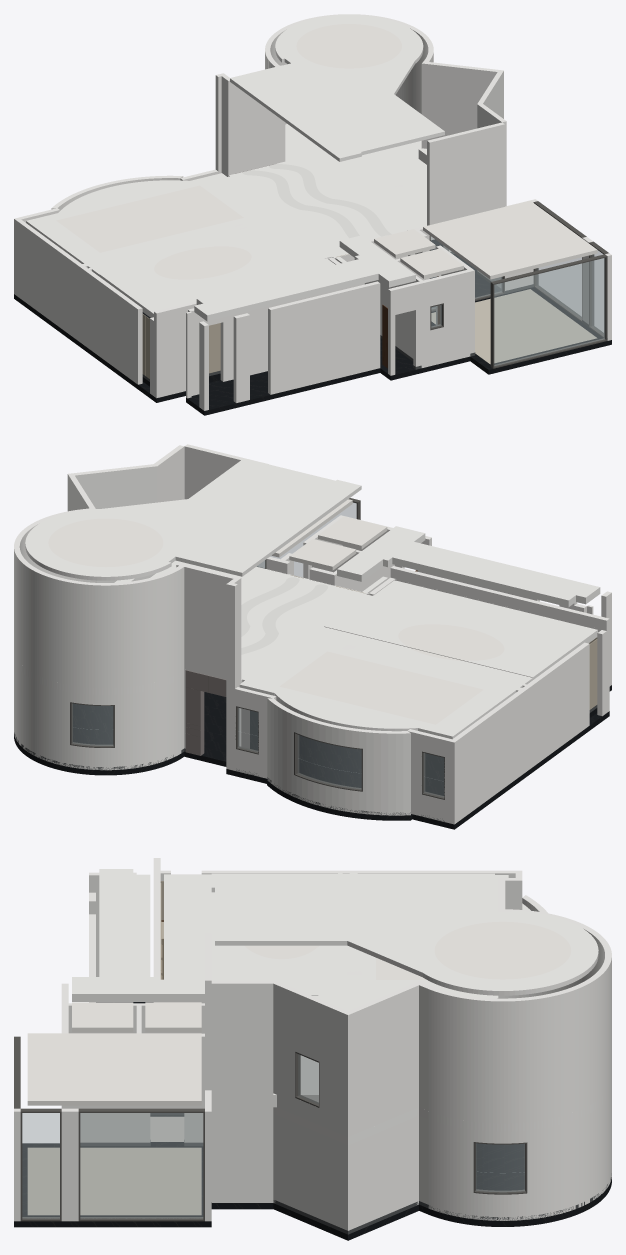
File: client-space.glb
3 renders of one model, top to bottom at view 1: azimuth 30°, elevation 25°; view 2: azimuth 150°, elevation 25°; view 3: azimuth 270°, elevation 25°, orthographic. The views are drawn at different scales.
Visible parts, largest first — view 1: Ceiling perimeter underside7100 thickness150, Entry revision low white ceiling with two S recesses - provi, Wall_mass_08 H3150, Wall_mass_02 H3550, Ceiling perimeter finish 2890 mm, Outdoor_south glass - unscheduled opening height adjustable, Outdoor_ceiling flush underside3550 thickness150, Ceiling perimeter finish 2909 mm, Living_to_outdoor_glazing high room wall over opening, Rectangular_hall_recess finish 2970 mm, Ceiling perimeter finish 3550 mm, Floor slab - underside -200mm (+27 smaller); view 2: Ceiling perimeter underside7100 thickness150, Site window Round_living_northwest white head, Wall_mass_08 H3150, Ceiling perimeter finish 2890 mm, Ceiling perimeter finish 2909 mm, Floor slab - underside -200mm, Rectangular_hall_recess finish 2970 mm, Ceiling perimeter finish 3550 mm, Entry revision low white ceiling with two S recesses - provi, Wall_mass_17 above window5200-7100, Round_living_feature flush underside7100 thickness150, Main_entry_double lintel above2500 (+34 smaller); view 3: Ceiling perimeter underside7100 thickness150, Wall_mass_17 lower to sill3700, Site window Round_living_northeast white head, Wall_mass_17 above window5200-7100, Outdoor_east_upper glass - unscheduled opening height adjust, Outdoor_ceiling flush underside3550 thickness150, Outdoor_floor_finish, Wall_mass_17 window jambs3700-5200 (×2), Ceiling perimeter finish 3550 mm, Ceiling perimeter finish 2909 mm, Floor slab - underside -200mm, Round_living_feature flush underside7100 thickness150 (+32 smaller).
Boxes of the visible parts, x1,y1,x2,y2 form: Ceiling perimeter underside7100 thickness150: (230, 15, 444, 161); Entry revision low white ceiling with two S recesses - provi: (228, 124, 434, 255); Wall_mass_08 H3150: (14, 217, 142, 384); Wall_mass_02 H3550: (268, 281, 380, 394); Ceiling perimeter finish 2890 mm: (26, 173, 346, 276); Outdoor_south glass - unscheduled opening height adjustable: (494, 258, 604, 365); Outdoor_ceiling flush underside3550 thickness150: (423, 200, 597, 279); Ceiling perimeter finish 2909 mm: (99, 227, 333, 317); Living_to_outdoor_glazing high room wall over opening: (427, 122, 504, 225); Rectangular_hall_recess finish 2970 mm: (56, 185, 243, 252); Ceiling perimeter finish 3550 mm: (194, 235, 415, 321); Floor slab - underside -200mm: (14, 239, 611, 415); Ceiling perimeter underside7100 thickness150: (25, 458, 361, 580); Site window Round_living_northwest white head: (23, 562, 173, 705); Wall_mass_08 H3150: (445, 642, 589, 824); Ceiling perimeter finish 2890 mm: (239, 576, 532, 739); Ceiling perimeter finish 2909 mm: (324, 580, 597, 679); Floor slab - underside -200mm: (14, 685, 611, 829); Rectangular_hall_recess finish 2970 mm: (279, 651, 483, 724); Ceiling perimeter finish 3550 mm: (337, 526, 600, 607); Entry revision low white ceiling with two S recesses - provi: (14, 560, 360, 694); Wall_mass_17 above window5200-7100: (67, 445, 184, 511); Round_living_feature flush underside7100 thickness150: (48, 518, 163, 567); Main_entry_double lintel above2500: (186, 565, 233, 679); Ceiling perimeter underside7100 thickness150: (211, 873, 598, 995); Wall_mass_17 lower to sill3700: (211, 1088, 428, 1230); Site window Round_living_northeast white head: (428, 987, 573, 1143); Wall_mass_17 above window5200-7100: (211, 980, 432, 1073); Outdoor_east_upper glass - unscheduled opening height adjust: (80, 1113, 202, 1218); Outdoor_ceiling flush underside3550 thickness150: (27, 1033, 201, 1105); Outdoor_floor_finish: (27, 1147, 201, 1215); Wall_mass_17 window jambs3700-5200 (×2): (211, 1042, 428, 1119); Ceiling perimeter finish 3550 mm: (72, 869, 204, 1001); Ceiling perimeter finish 2909 mm: (164, 874, 318, 995); Floor slab - underside -200mm: (14, 1002, 611, 1240); Round_living_feature flush underside7100 thickness150: (434, 921, 571, 979).
Bounding box in the file's own units: 18.51 × 7.45 × 17.54.
23 materials, 7 textured.
